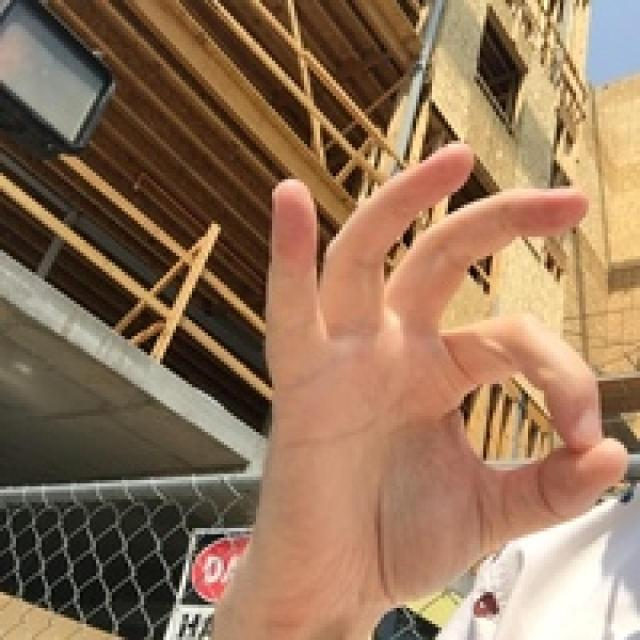F: (170, 90, 640, 640)
